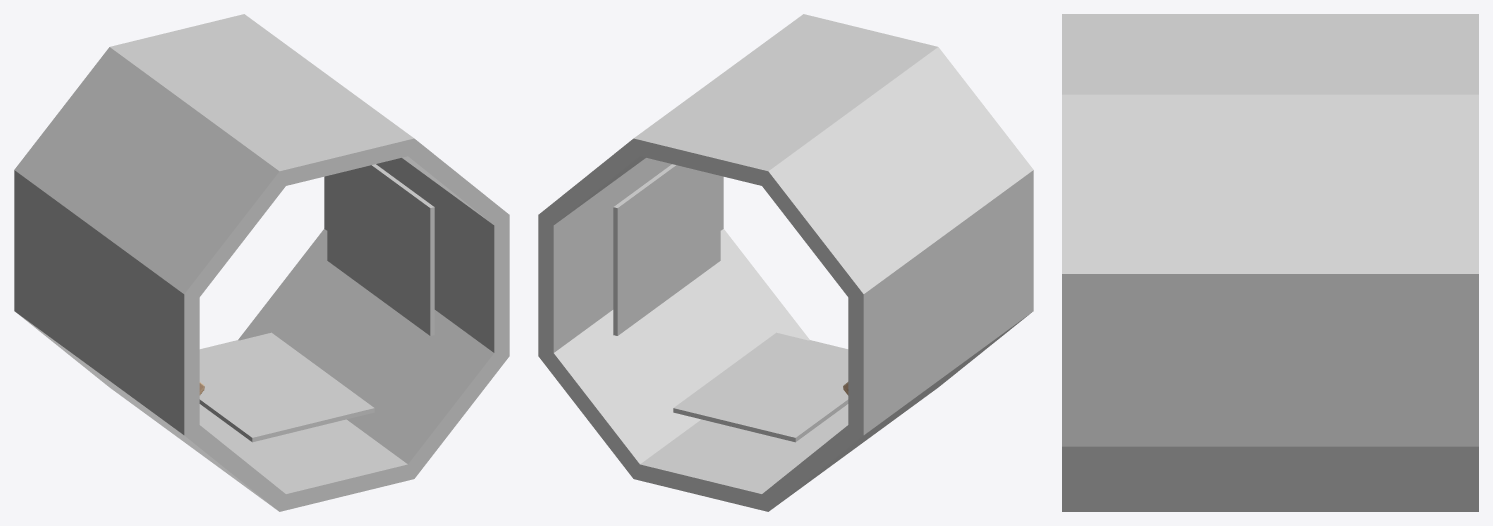
Rendered from Corridoiospazialo.fbx.
The picture shows the model from 3 angles, left to right: view 1: azimuth 30°, elevation 25°; view 2: azimuth 150°, elevation 25°; view 3: azimuth 270°, elevation 25°; orthographic projection. The views are drawn at different scales.
Parts seen in each view (by area): view 1: Hull, PedanaSDx, PedanaSotto; view 2: Hull, PedanaSDx, PedanaSotto; view 3: Hull.
Boxes of the visible parts, bbox=[...] form: Hull: bbox=[14, 14, 509, 511]; PedanaSDx: bbox=[327, 164, 434, 335]; PedanaSotto: bbox=[199, 332, 374, 442]; Hull: bbox=[538, 14, 1033, 511]; PedanaSDx: bbox=[613, 164, 720, 335]; PedanaSotto: bbox=[673, 332, 848, 442]; Hull: bbox=[1062, 14, 1478, 511].
Bounding box in the file's own units: 1094 × 1094 × 990.
